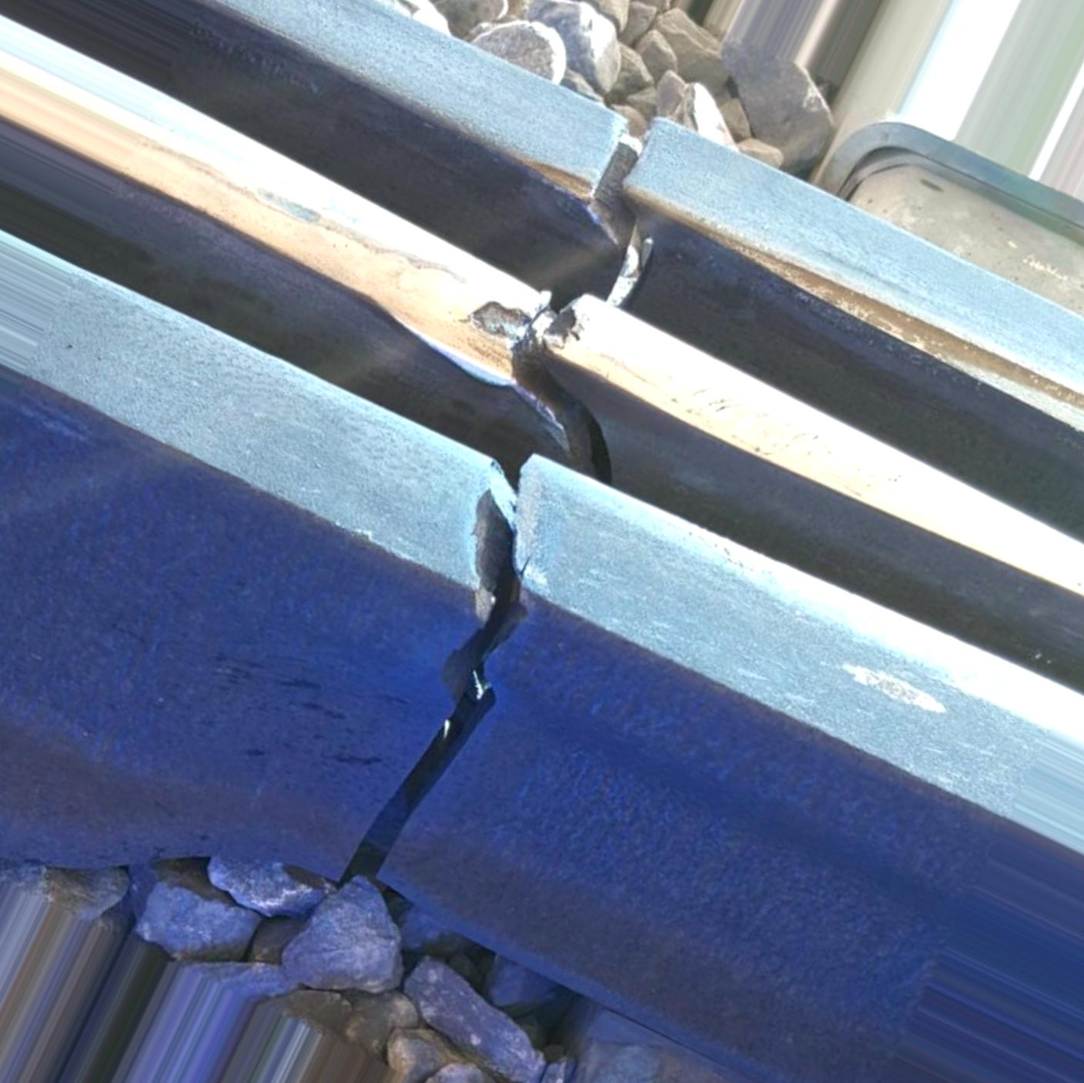tracks_fault: (181, 37, 751, 971)
